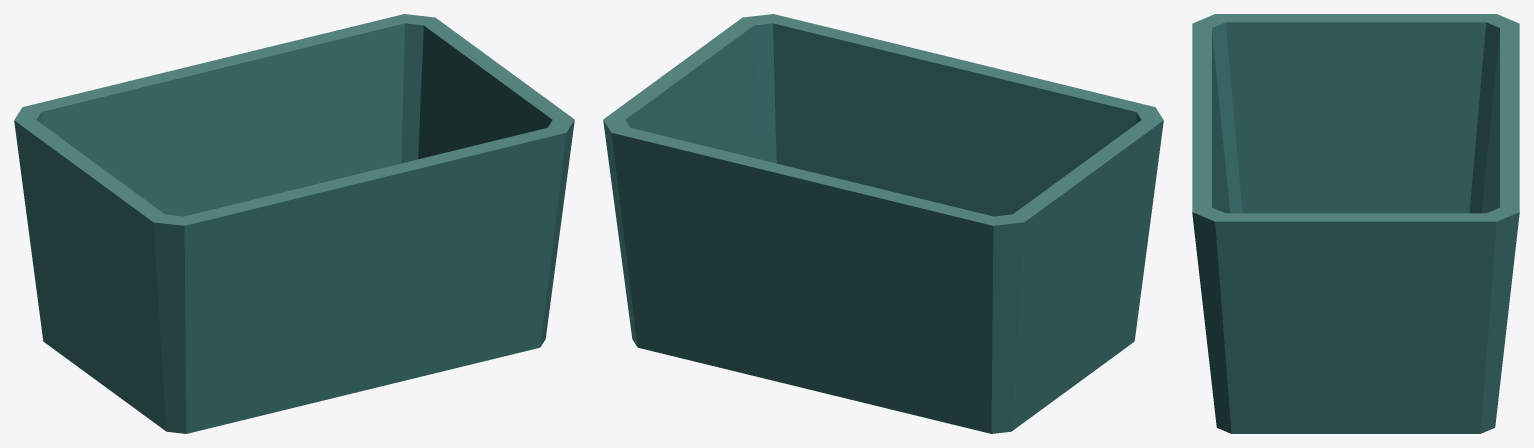
Rendered from tote-low.glb.
3 renders of one model, left to right at view 1: azimuth 30°, elevation 25°; view 2: azimuth 150°, elevation 25°; view 3: azimuth 270°, elevation 25°, orthographic.
Parts seen in each view (by area): view 1: tote-low__material_00; view 2: tote-low__material_00; view 3: tote-low__material_00.
Part boxes in pixels (x1,y1,x2,y2): tote-low__material_00: (14,14,574,433); tote-low__material_00: (603,14,1163,433); tote-low__material_00: (1192,14,1519,433).
Size of the model in its own units: 0.6 by 0.3 by 0.4.
